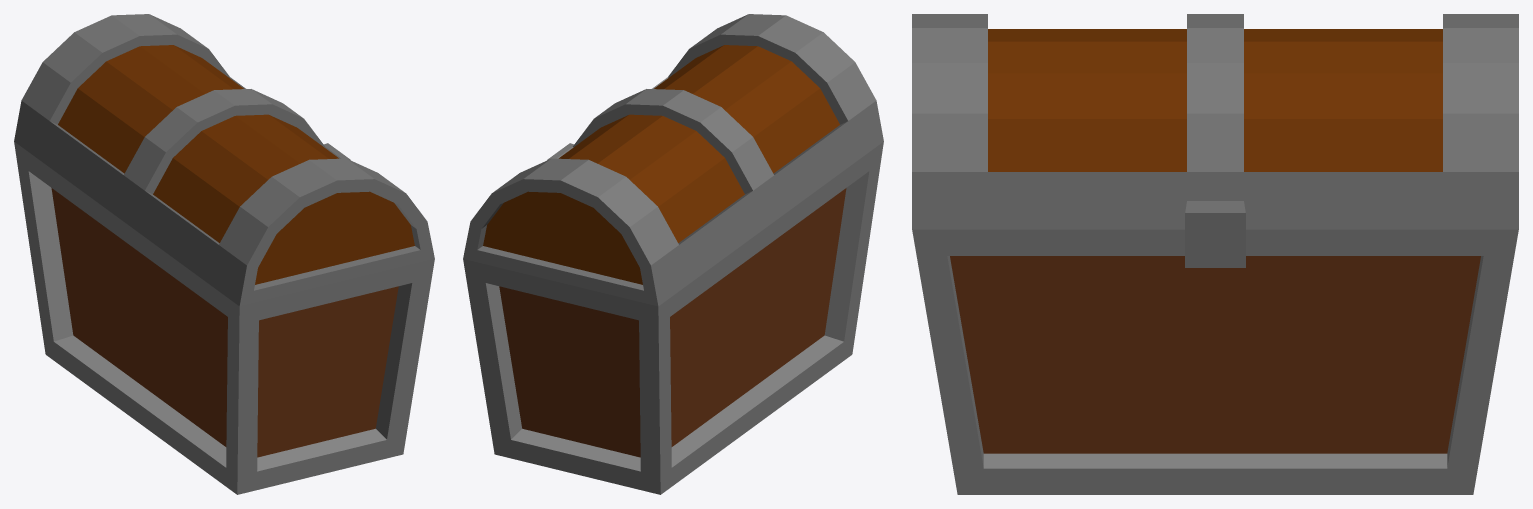
The model's file is Chest.fbx.
3 renders of one model, left to right at view 1: azimuth 30°, elevation 25°; view 2: azimuth 150°, elevation 25°; view 3: azimuth 270°, elevation 25°, orthographic. The views are drawn at different scales.
Parts seen in each view (by area): view 1: Bottom_Chest_Iron, Upper_Chest_Wood; view 2: Bottom_Chest_Iron, Upper_Chest_Wood; view 3: Bottom_Chest_Iron, Upper_Chest_Wood.
Boxes of the visible parts, x1=… form: Bottom_Chest_Iron: x1=14, y1=141, x2=434, y2=494; Upper_Chest_Wood: x1=14, y1=14, x2=434, y2=306; Bottom_Chest_Iron: x1=463, y1=141, x2=883, y2=494; Upper_Chest_Wood: x1=463, y1=14, x2=883, y2=306; Bottom_Chest_Iron: x1=912, y1=229, x2=1518, y2=494; Upper_Chest_Wood: x1=912, y1=14, x2=1518, y2=267.
Size of the model in its own units: 54.37 by 75 by 100.
